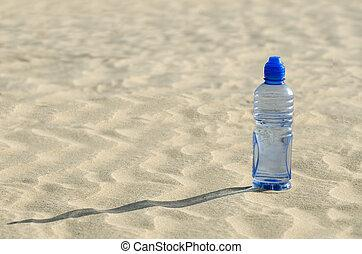bottle: (247, 50, 298, 197)
